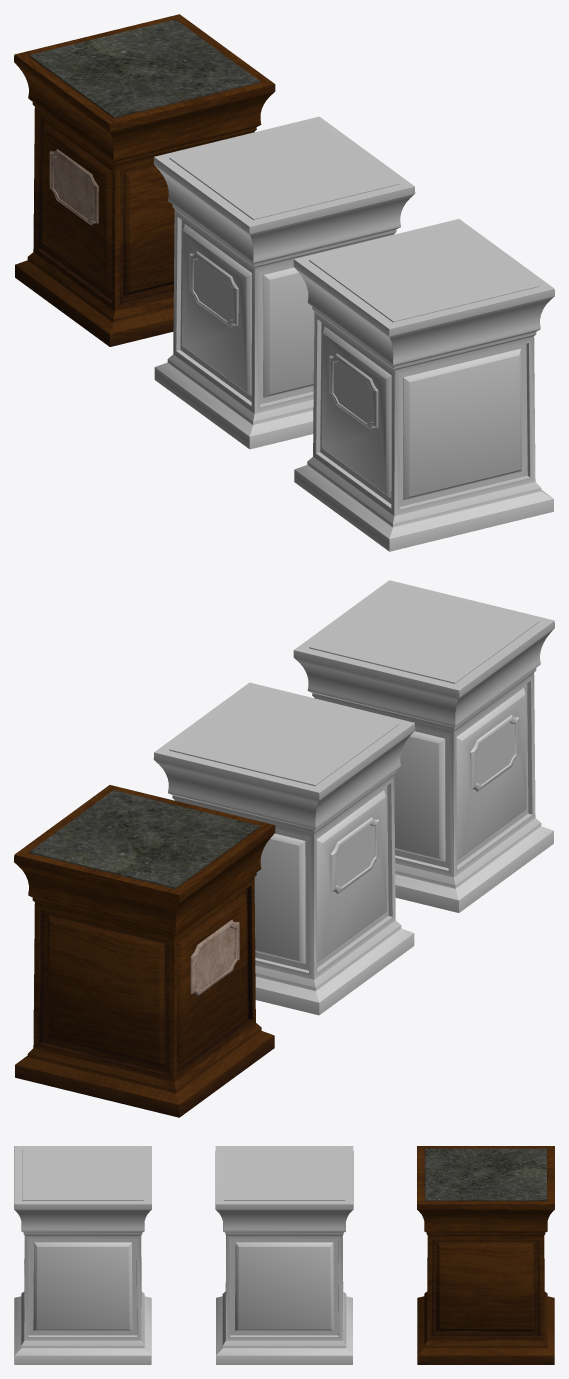
File: MuseumPedestals.fbx
3 views of the same model, one above another, from view 1: azimuth 30°, elevation 25°; view 2: azimuth 150°, elevation 25°; view 3: azimuth 270°, elevation 25° (orthographic). The views are drawn at different scales.
Visible parts, largest first — view 1: MuseumPlinthe03, MuseumPlinthe02, MuseumPlinthe01; view 2: MuseumPlinthe01, MuseumPlinthe02, MuseumPlinthe03; view 3: MuseumPlinthe01, MuseumPlinthe03, MuseumPlinthe02.
Part boxes in pixels (box(x1,y1,x2,y2)): MuseumPlinthe03: box(293, 219, 554, 551); MuseumPlinthe02: box(153, 116, 415, 449); MuseumPlinthe01: box(14, 14, 275, 346); MuseumPlinthe01: box(14, 785, 275, 1117); MuseumPlinthe02: box(153, 682, 415, 1015); MuseumPlinthe03: box(293, 580, 554, 912); MuseumPlinthe01: box(417, 1146, 554, 1364); MuseumPlinthe03: box(14, 1146, 151, 1364); MuseumPlinthe02: box(215, 1146, 353, 1364).
Bounding box in the file's own units: 145 × 187 × 567.
